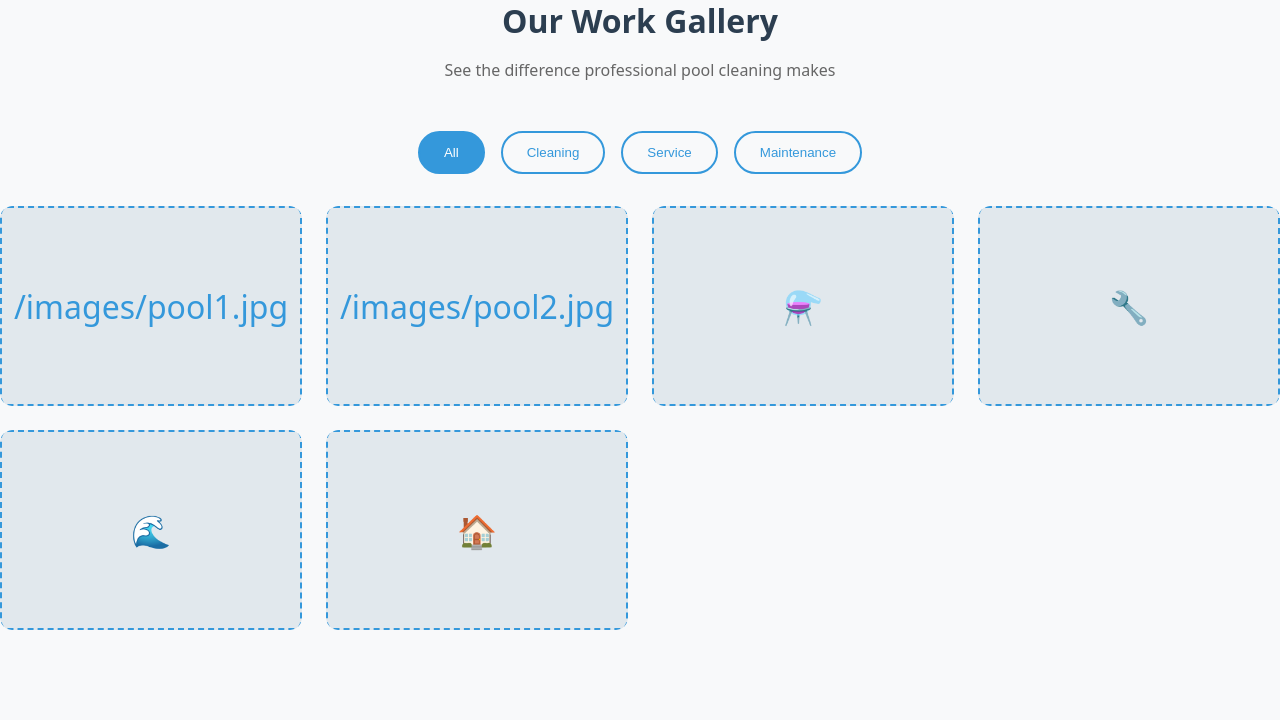
it: ImageGallery component › opens and closes lightbox when an image is clicked
The image size is (1280, 720).
# open lightbox for first image
Click the button with class "gallery-image" showing "/images/pool1.jpg" at coordinates (151, 306), box [0,206,302,406]
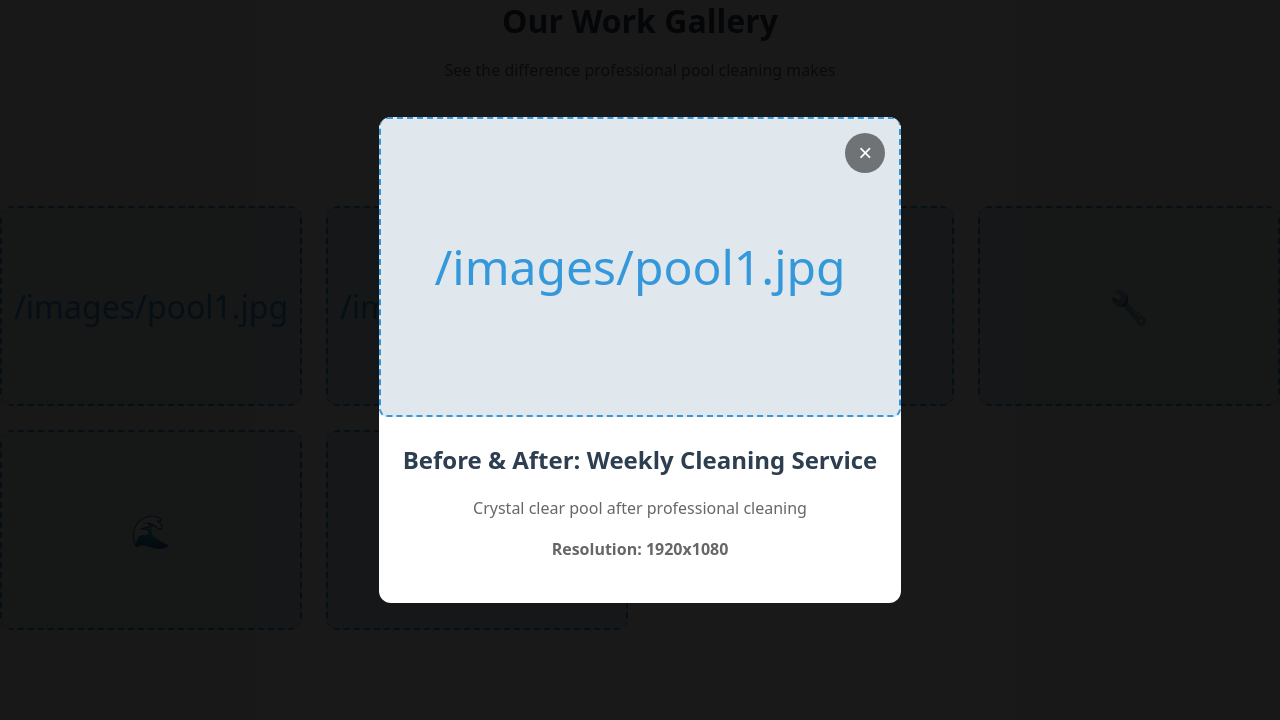
expect the element with class "lightbox-overlay" is shown: met
# close lightbox
Click the button with class "lightbox-close" at coordinates (865, 153), box [845,133,885,173]
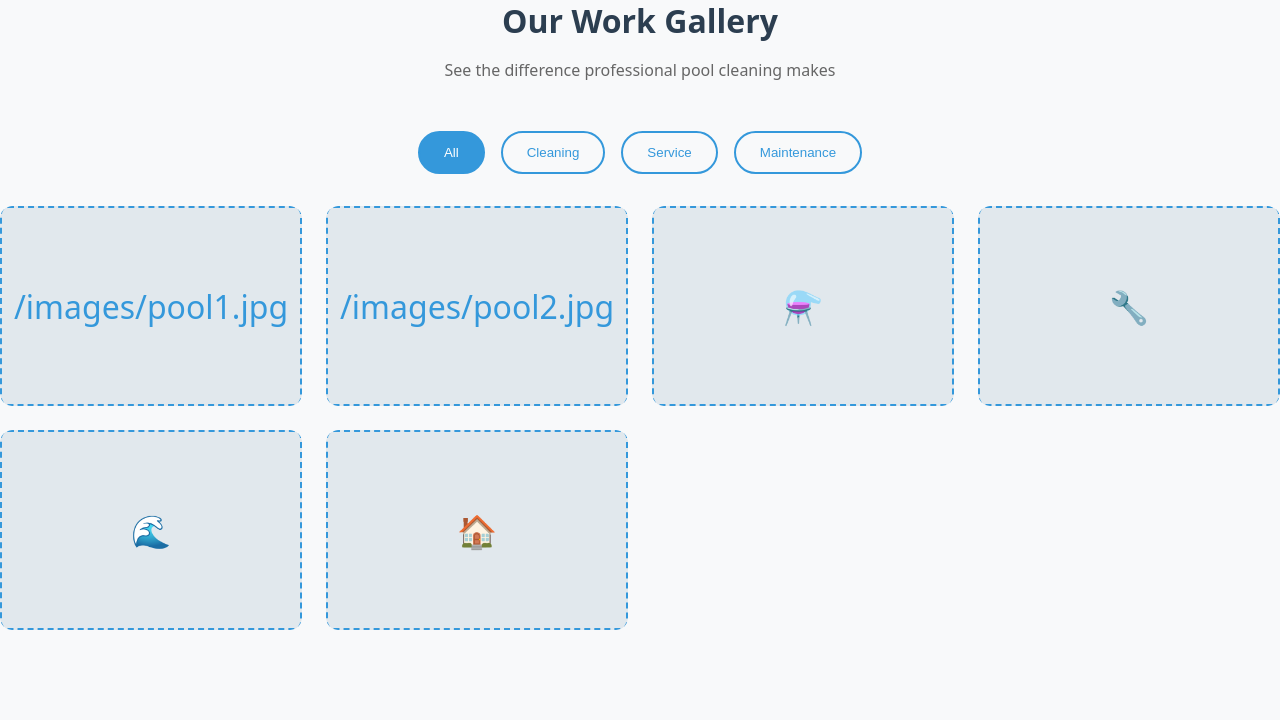
expect the element with class "lightbox-overlay" is gone: met
